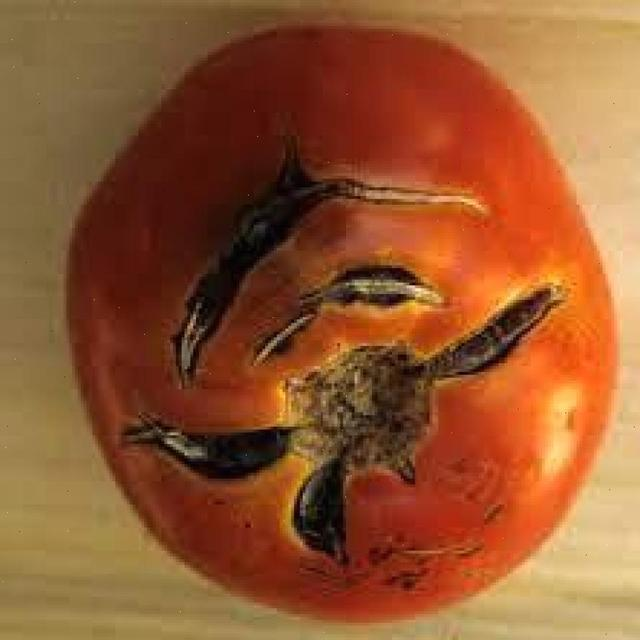Cracking Fruit: (197, 210, 268, 287)
